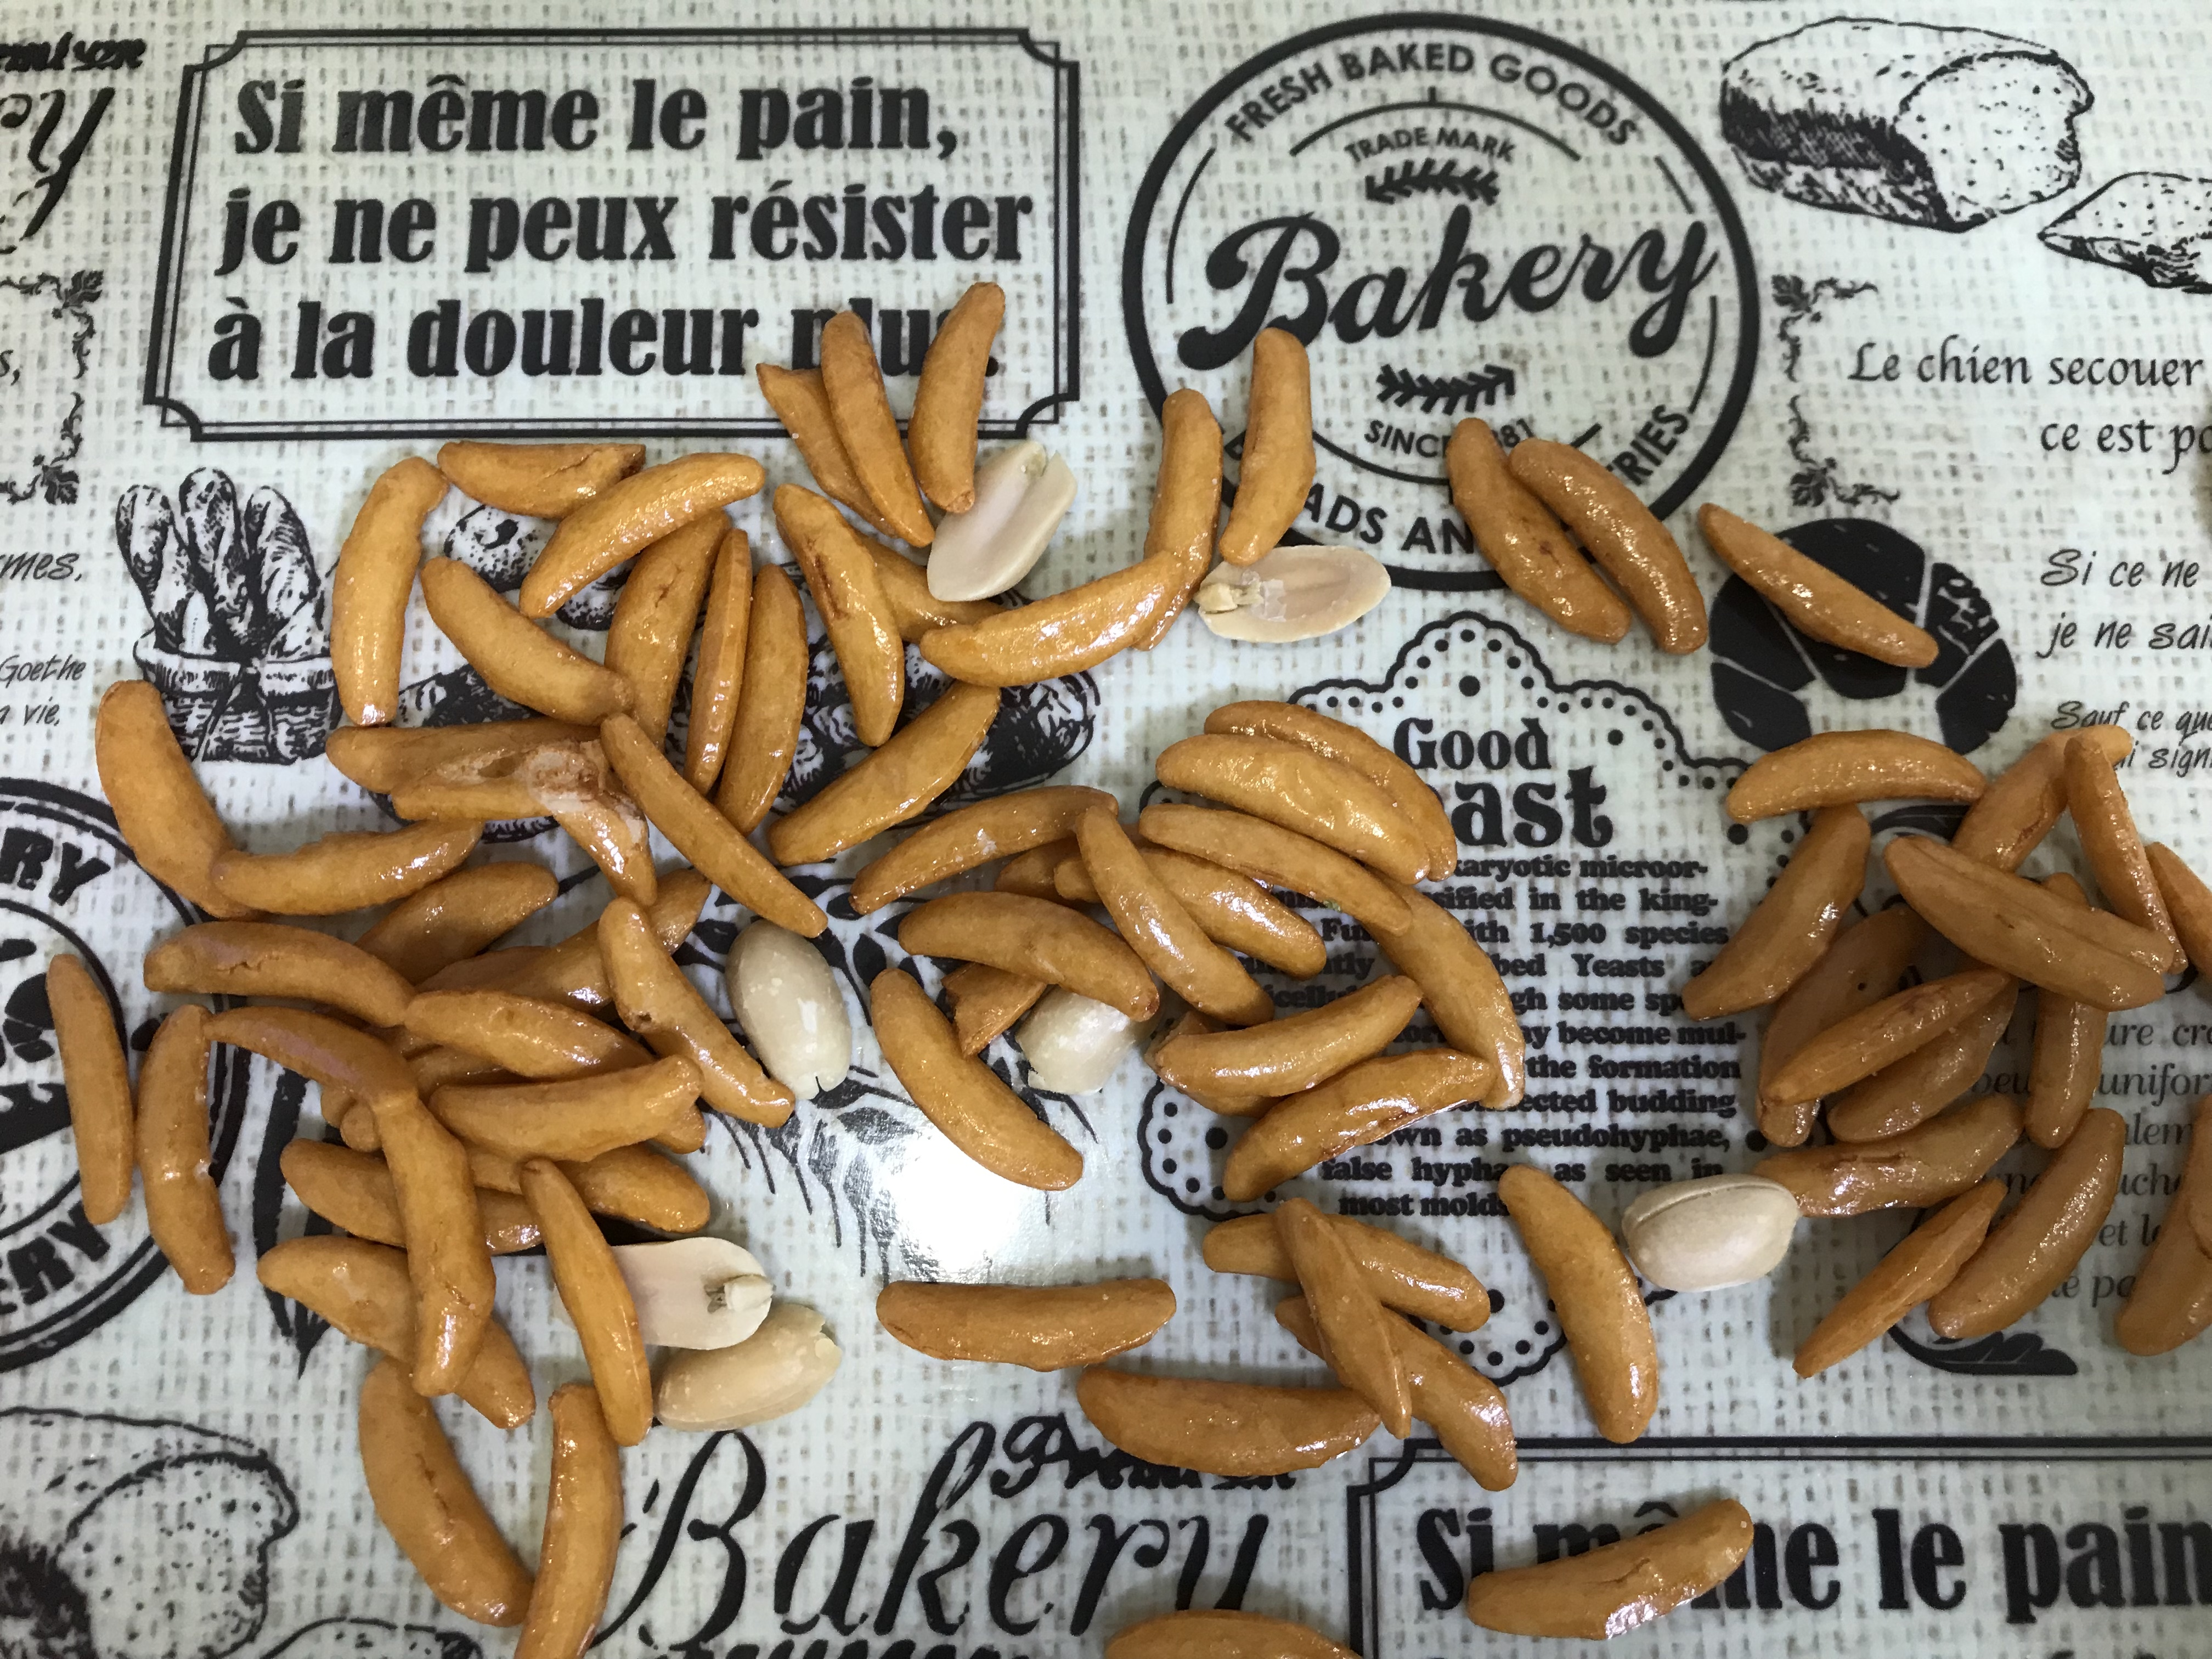peanut: (914, 430, 1090, 603), (648, 1297, 855, 1441), (716, 915, 859, 1110), (1616, 1162, 1810, 1302), (1181, 538, 1409, 643), (601, 1227, 779, 1358), (1003, 974, 1163, 1103)
